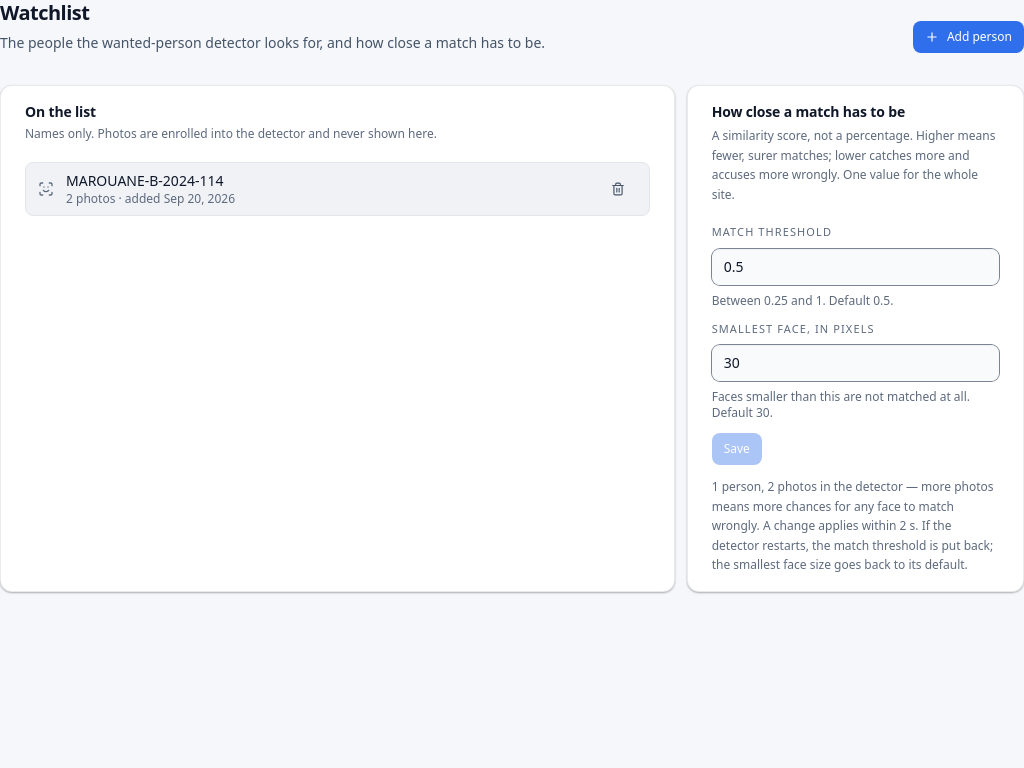
Watchlist › refuses a name that is already on the list, and a name it cannot take
The image size is (1024, 768).
Expected: the text "MAROUANE-B-2024-114" is shown, x1=66 y1=171 x2=223 y2=190
Click the button "Add person". click: coordinates (968, 37)
box: x1=913 y1=21 x2=1023 y2=53
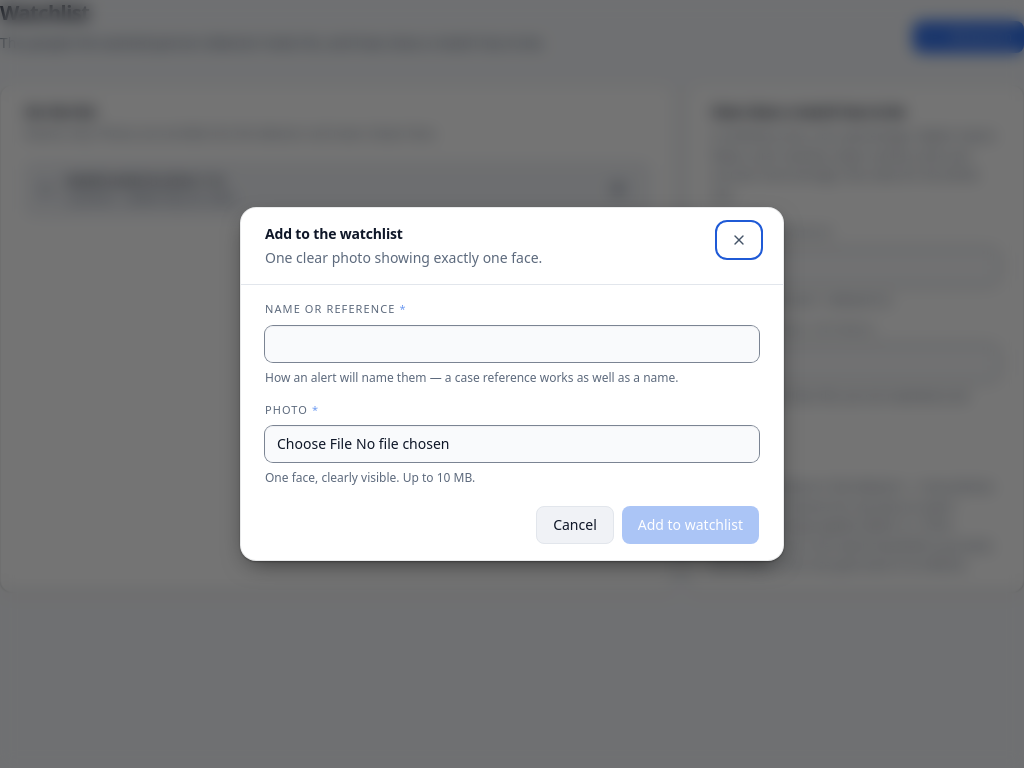
Type "MAROUANE-B-2024-114" into the field labelled "Name or reference*". click: coordinates (512, 344)
box: x1=265 y1=326 x2=759 y2=362
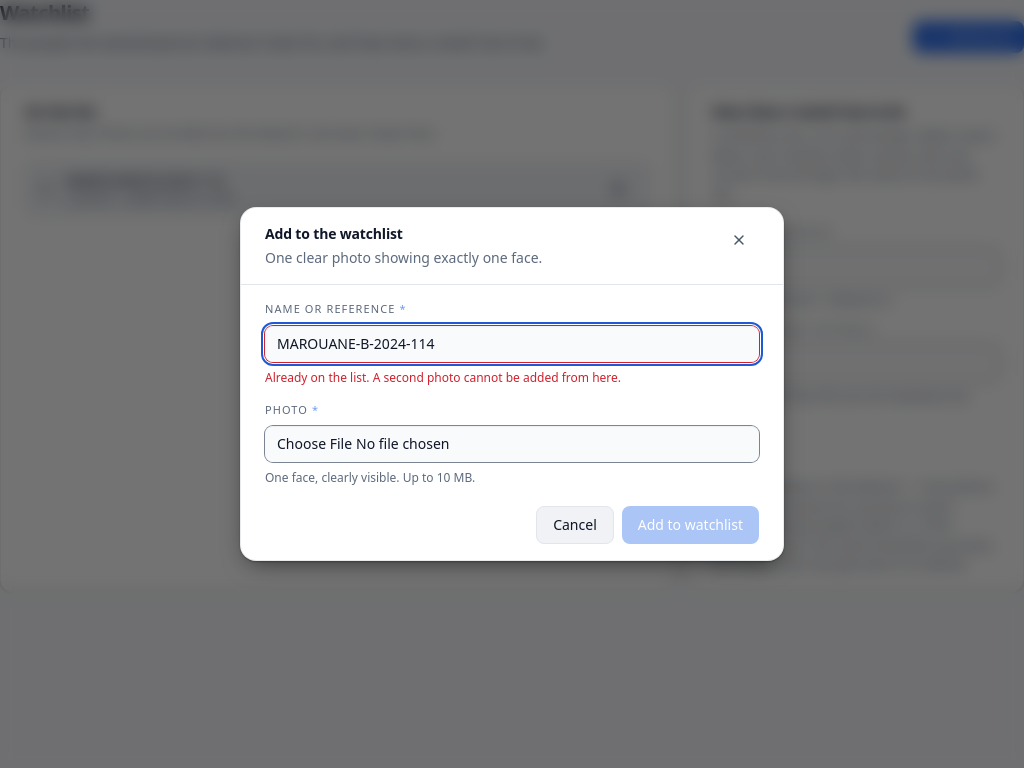
Now the text "Already on the list" is shown, box x1=265 y1=368 x2=621 y2=386
Replace the text in the field labelled "Name or reference*" with "Café/1". click: coordinates (512, 344)
box: x1=265 y1=326 x2=759 y2=362
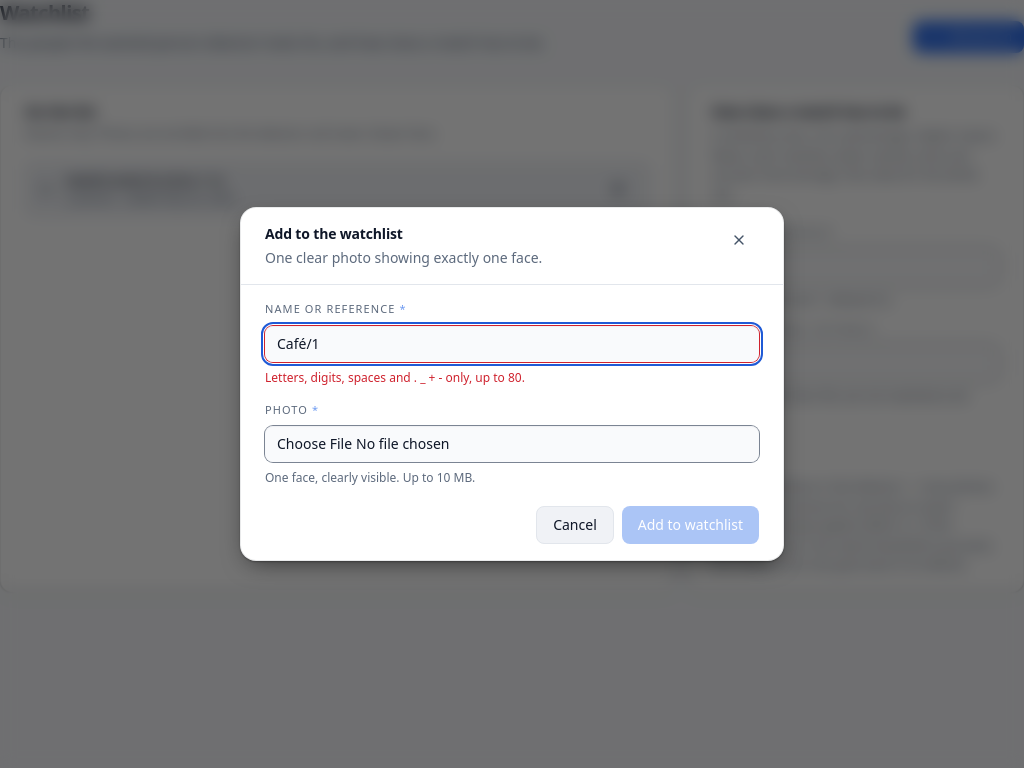
Now the button "Add to watchlist" is disabled, box x1=622 y1=506 x2=759 y2=544
Now the text "Letters, digits, spaces and . _ + - only, up to 80." is shown, box x1=265 y1=368 x2=525 y2=386
